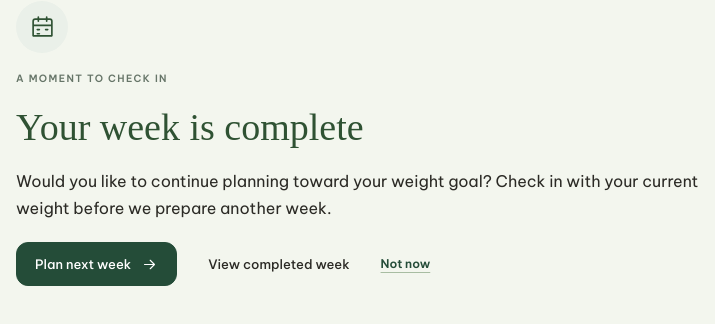
Test: offers continuation, history and deferral without automatically generating anything
Later steps or results of the test are not shown.
Click the button "Not now". click: (405, 264)
box: [381, 248, 430, 281]
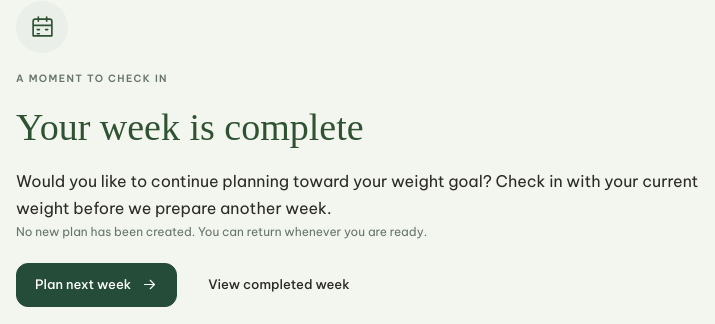
Now the text "No new plan has been created" is shown, box [16, 224, 427, 239]
